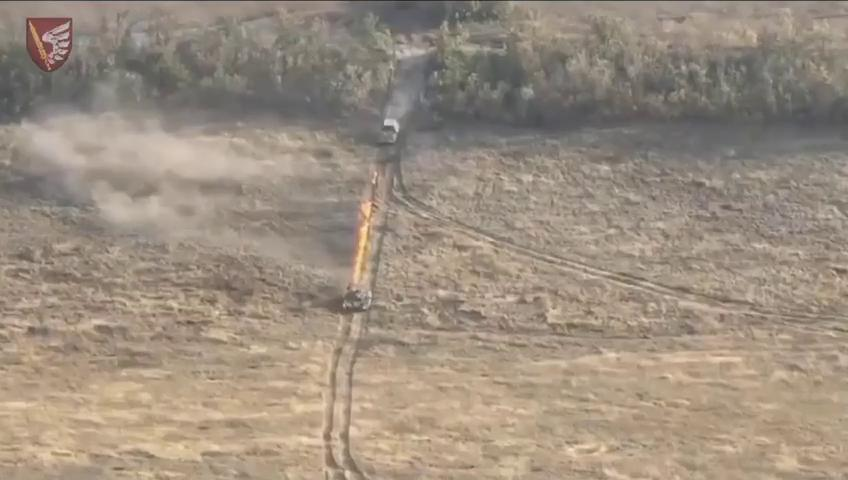tank: (342, 282, 376, 313), (377, 113, 400, 146)
